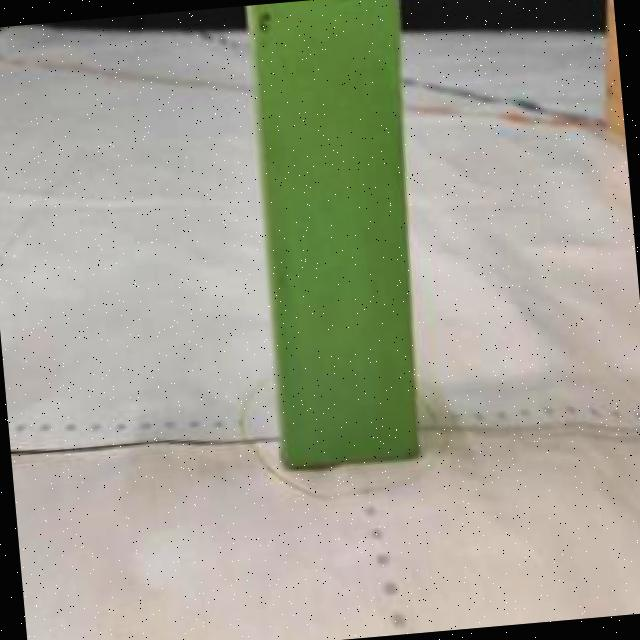greenbox: (239, 0, 440, 474)
